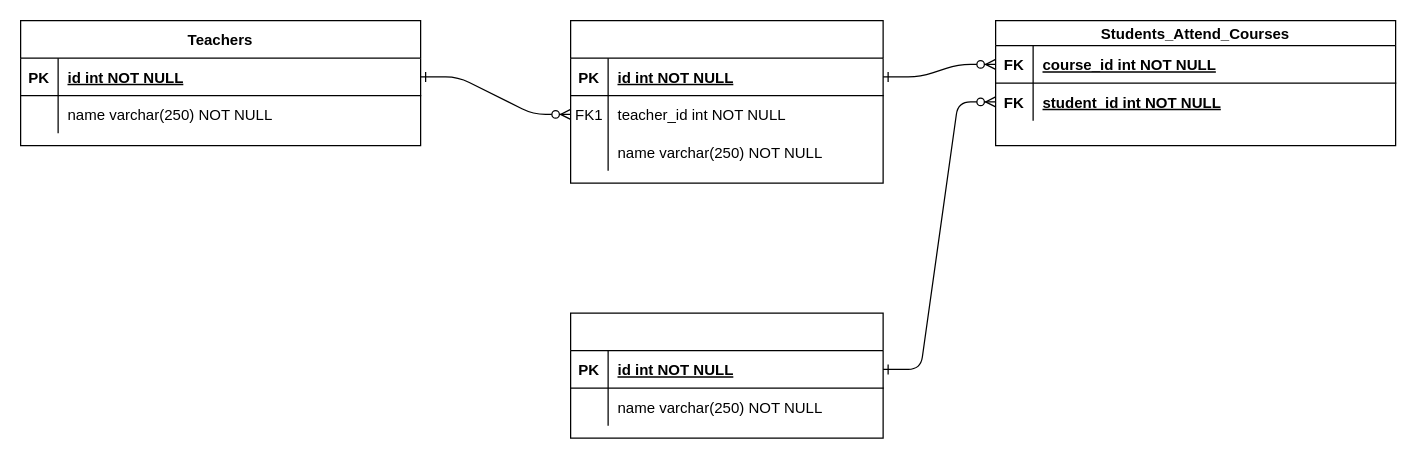
Some shapes in this 1416 by 459 pixel diagram are drawn without their labels. The shapes that lost their labels are listed below. From the top down, each one's box as (x1, y1, x2, y2) in pixels, then its label:
(569, 19, 883, 183): Courses
(569, 312, 883, 438): Students
